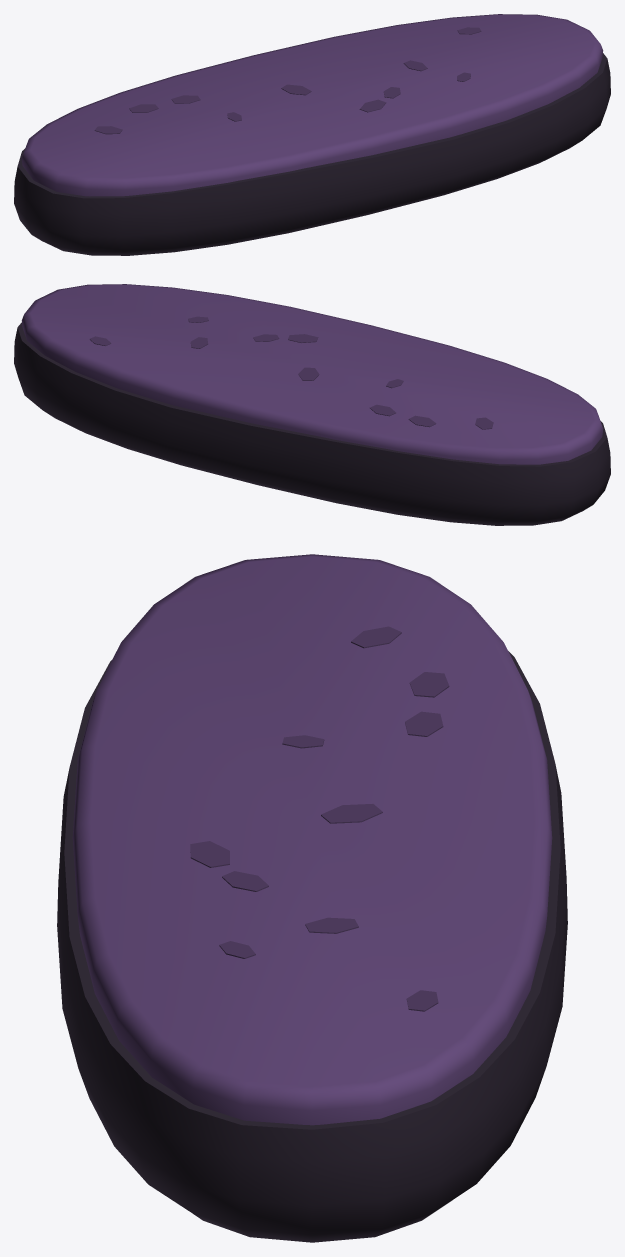
The model's file is Food_BlackBread_Bottom.fbx.
3 views of the same model, one above another, from view 1: azimuth 30°, elevation 25°; view 2: azimuth 150°, elevation 25°; view 3: azimuth 270°, elevation 25° (orthographic). The views are drawn at different scales.
Visible parts, largest first — view 1: Crumb, Crust, Pores; view 2: Crumb, Crust, Pores; view 3: Crumb, Crust, Pores.
Part boxes in pixels (x1,y1,x2,y2): Crumb: [21, 14, 603, 196]; Crust: [14, 53, 610, 255]; Pores: [94, 27, 481, 134]; Crumb: [21, 284, 603, 464]; Crust: [14, 322, 610, 525]; Pores: [89, 316, 493, 429]; Crumb: [72, 554, 552, 1125]; Crust: [57, 651, 567, 1242]; Pores: [190, 626, 449, 1011].
Size of the model in its own units: 220 by 30.49 by 85.
